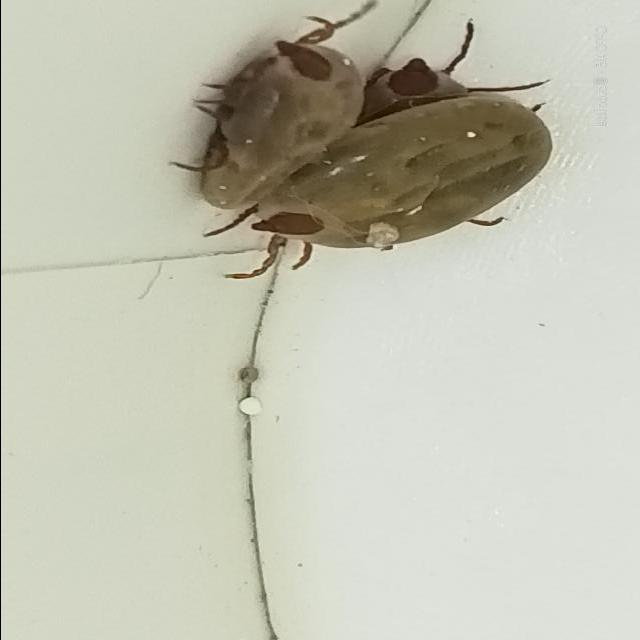Rhipicephalus Sanguineus-F-Fed: (221, 94, 554, 281), (167, 0, 378, 212)
